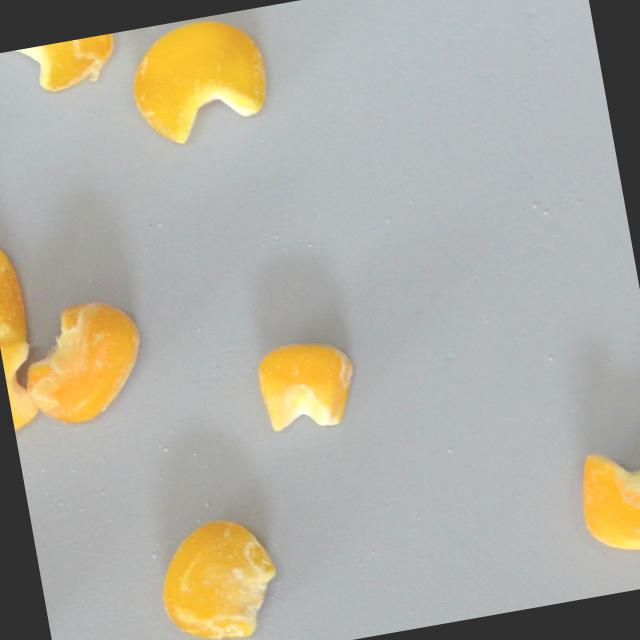pelicula: (120, 7, 274, 151), (12, 289, 155, 432), (150, 508, 285, 640), (248, 331, 360, 438), (0, 31, 122, 98), (571, 441, 640, 559), (0, 337, 45, 432), (0, 229, 29, 350)
